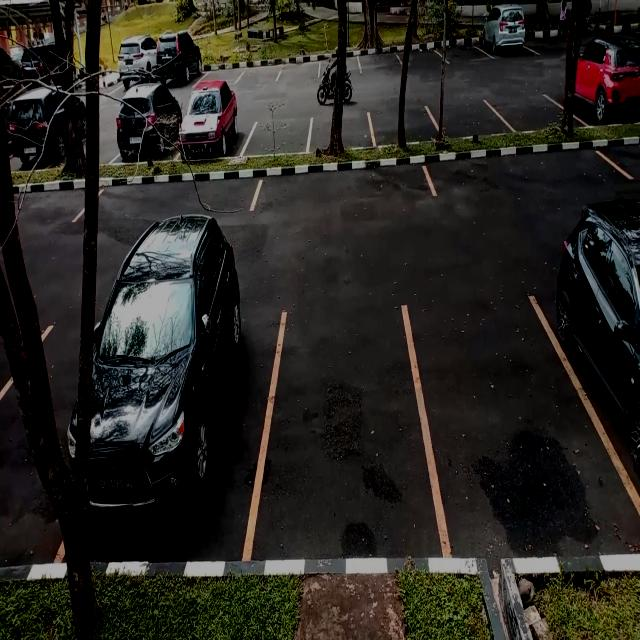empty: (264, 308, 433, 560), (416, 300, 573, 560), (431, 149, 624, 198), (254, 166, 433, 214), (436, 100, 504, 140), (368, 107, 434, 147), (504, 95, 568, 134), (247, 119, 314, 156), (312, 115, 374, 152), (612, 134, 640, 181), (278, 56, 320, 84), (402, 43, 444, 71), (443, 36, 484, 64), (360, 45, 402, 72), (240, 59, 281, 84)
occupied: (86, 265, 260, 559), (544, 212, 638, 521), (6, 101, 82, 171), (572, 47, 638, 125), (179, 91, 244, 160), (118, 90, 178, 164), (482, 14, 529, 59)
